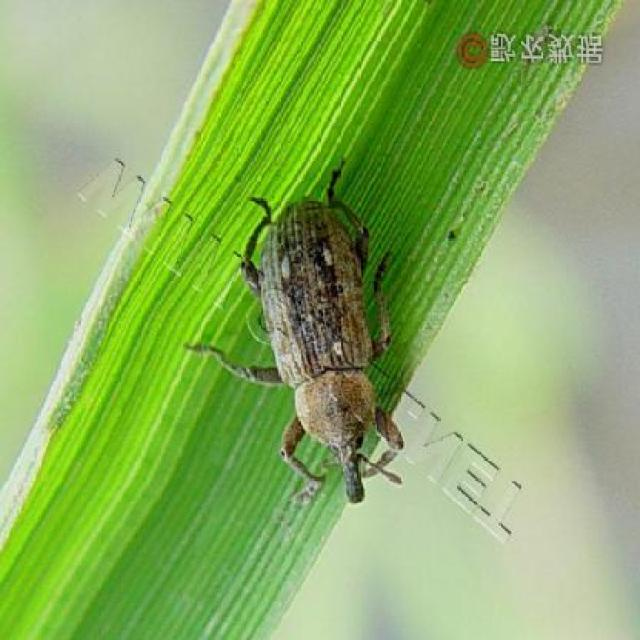rice-bug: (236, 170, 421, 504)
